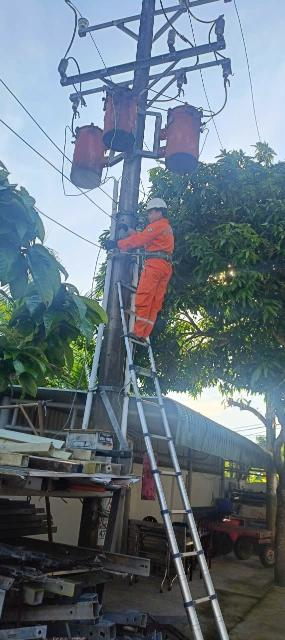gloves: (92, 230, 123, 257), (112, 222, 134, 232)
harness: (136, 242, 187, 271)
helmet: (139, 196, 178, 217)
shoes: (118, 326, 142, 342), (137, 335, 156, 345)
